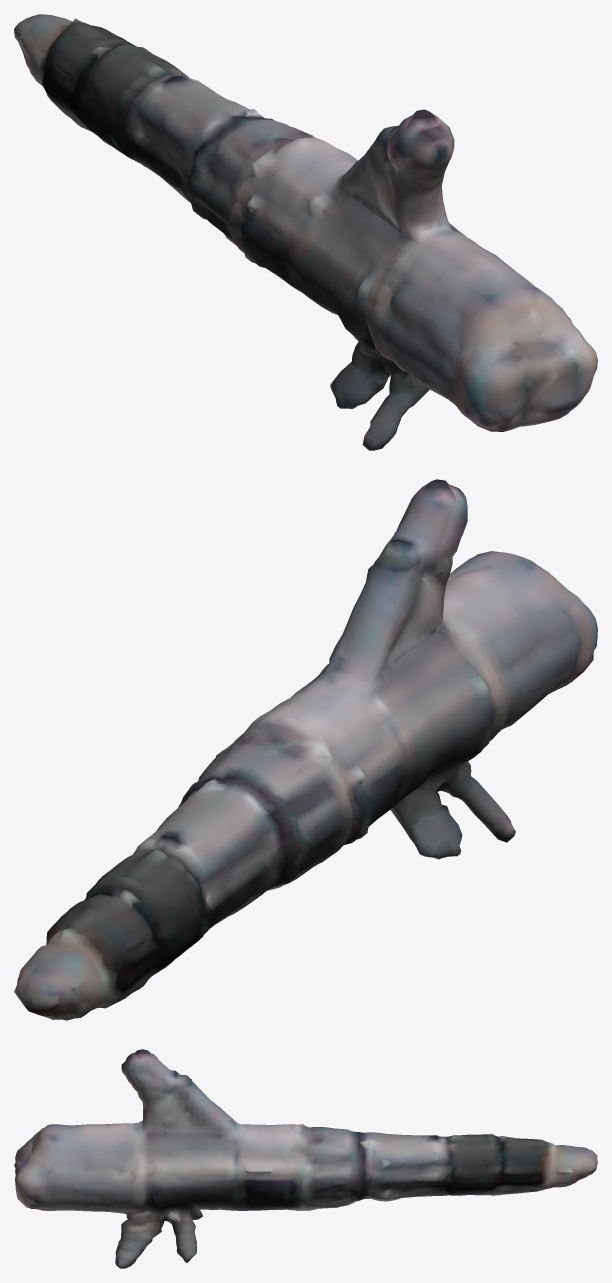
The model's file is injector.glb.
3 views of the same model, one above another, from view 1: azimuth 30°, elevation 25°; view 2: azimuth 150°, elevation 25°; view 3: azimuth 270°, elevation 25° (orthographic). The views are drawn at different scales.
Parts seen in each view (by area): view 1: geometry_0; view 2: geometry_0; view 3: geometry_0.
Part boxes in pixels (x1,y1,x2,y2): geometry_0: (14,14,597,450); geometry_0: (14,479,597,1020); geometry_0: (14,1049,597,1268).
Bounding box in the file's own units: 0.2321 × 0.3447 × 0.9587.
